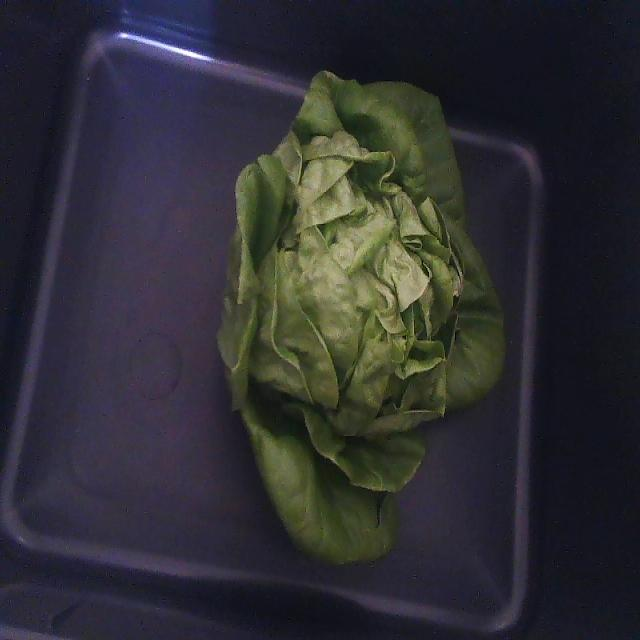lettuce: (217, 72, 504, 563)
